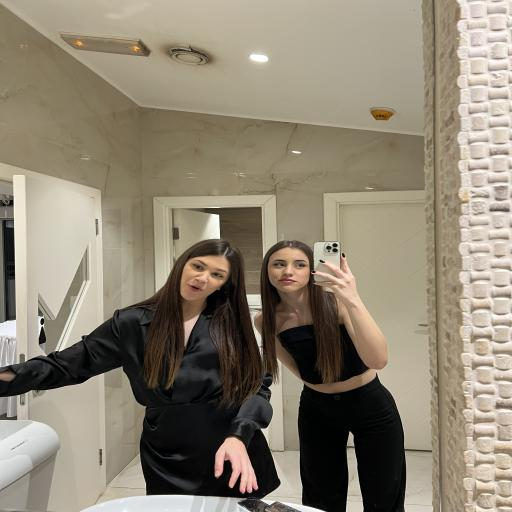masa: (270, 250, 306, 294)
